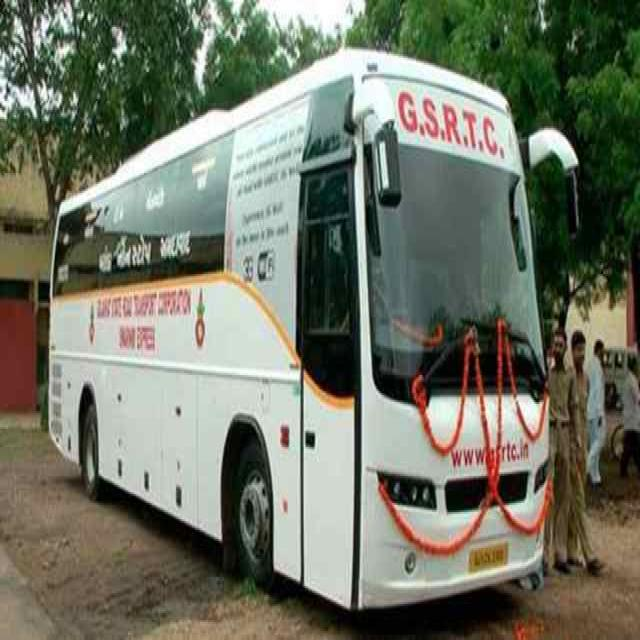bus: (50, 50, 578, 610)
